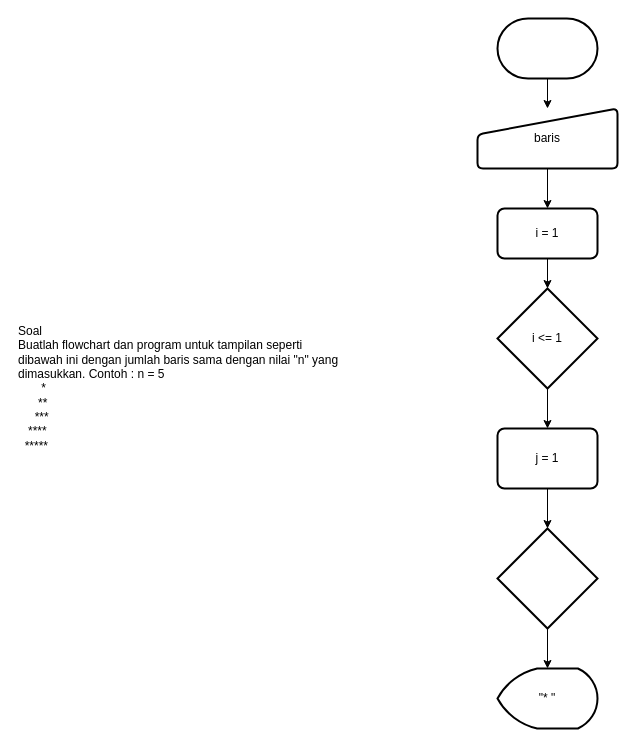
The diagram is 635 pixels wide and 746 high, and some of its shapes have lost their labels. Here are the shapes that lost their labels. From the top down, the centre of each, then its label:
At pixel 547 48: "mulai".
At pixel 547 578: "j<= i".
